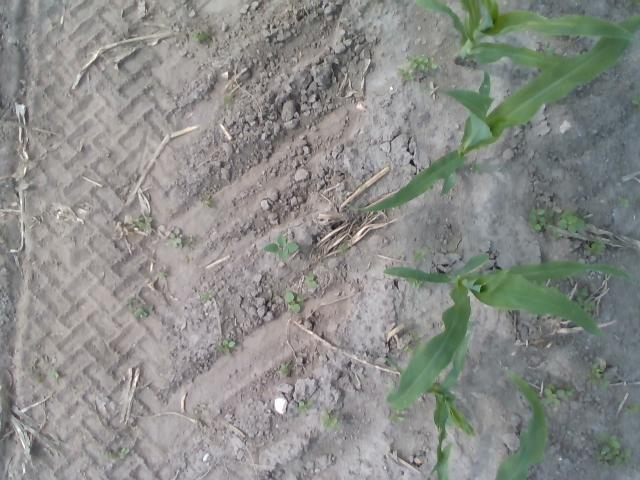Maize: (349, 18, 640, 212), (388, 254, 632, 406), (411, 0, 637, 87), (434, 365, 550, 480), (385, 356, 479, 478)
Weeds: (594, 432, 632, 470), (397, 55, 438, 81), (261, 233, 299, 258), (539, 381, 576, 406), (527, 206, 555, 234), (556, 207, 585, 234), (583, 363, 611, 390), (572, 286, 596, 312), (403, 330, 425, 353), (284, 291, 304, 313), (322, 408, 341, 431), (584, 236, 606, 255), (215, 338, 235, 354), (104, 447, 130, 459), (130, 216, 152, 230), (134, 304, 154, 318), (166, 232, 182, 248), (389, 408, 406, 423), (625, 400, 640, 416), (410, 249, 426, 262), (470, 160, 484, 174), (191, 32, 210, 42), (222, 92, 234, 106), (542, 42, 554, 56), (298, 400, 312, 412), (631, 93, 640, 111), (409, 278, 423, 289), (156, 265, 168, 277), (306, 274, 318, 286), (202, 198, 216, 208), (279, 362, 291, 373), (618, 197, 630, 207), (533, 278, 548, 286), (200, 293, 212, 302), (48, 370, 59, 378), (554, 230, 562, 240), (187, 235, 194, 246), (628, 0, 640, 6), (123, 298, 131, 306), (340, 244, 346, 253)
